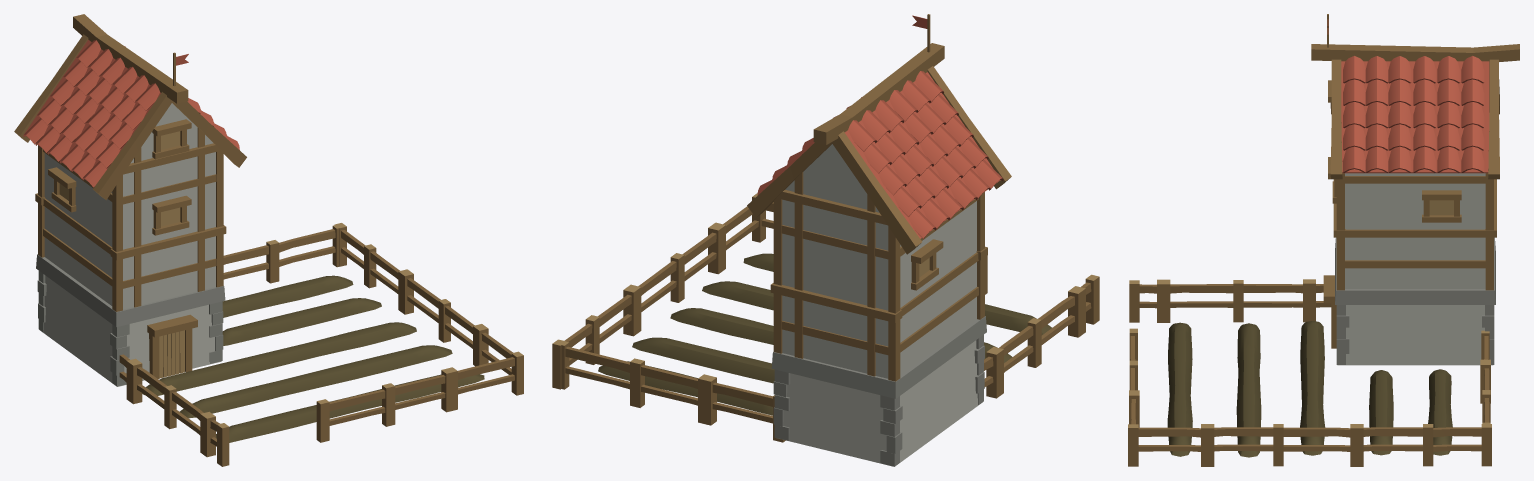
File: Farm-91wMLb9kKo.glb
3 renders of one model, left to right at view 1: azimuth 30°, elevation 25°; view 2: azimuth 150°, elevation 25°; view 3: azimuth 270°, elevation 25°, orthographic. The views are drawn at different scales.
Parts seen in each view (by area): view 1: Farm_SecondAge_Level3; view 2: Farm_SecondAge_Level3; view 3: Farm_SecondAge_Level3.
Boxes of the visible parts, x1,y1,x2,y2 form: Farm_SecondAge_Level3: (14, 14, 523, 466); Farm_SecondAge_Level3: (552, 14, 1099, 466); Farm_SecondAge_Level3: (1128, 14, 1519, 466).
Size of the model in its own units: 1.91 by 1.84 by 1.98.
